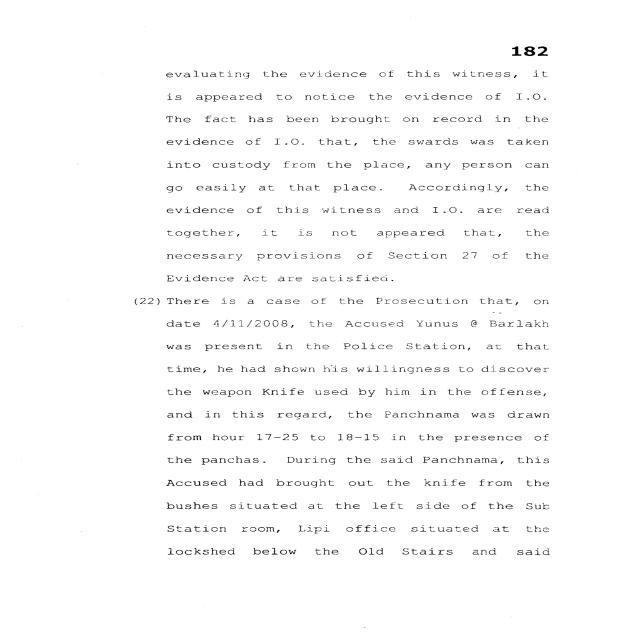page-number: (430, 0, 632, 63)
